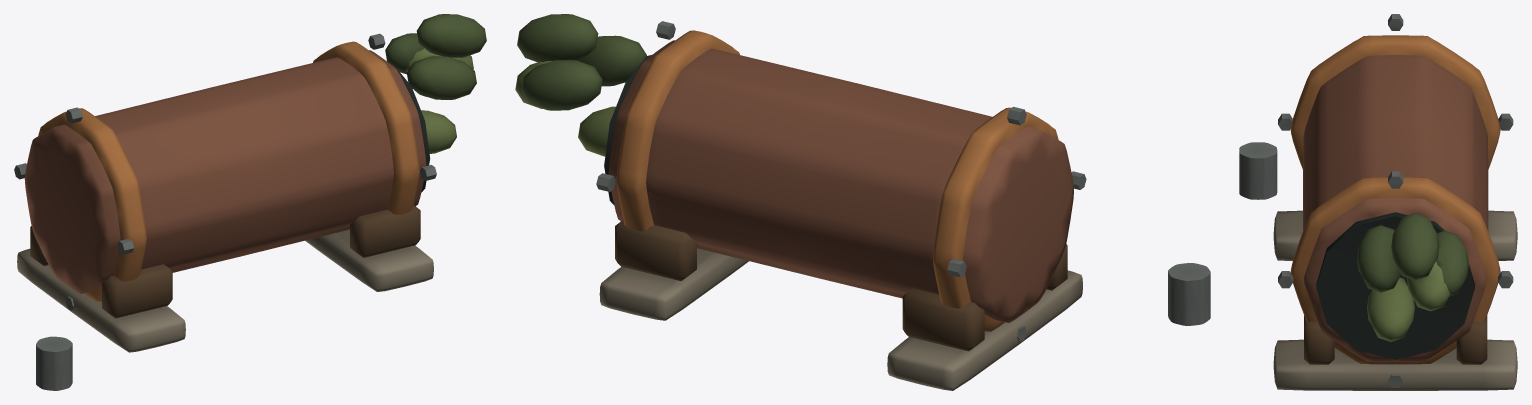
The model's file is pipe_section_b.glb.
3 views of the same model, side by side, from view 1: azimuth 30°, elevation 25°; view 2: azimuth 150°, elevation 25°; view 3: azimuth 270°, elevation 25° (orthographic). The views are drawn at different scales.
Visible parts, largest first — view 1: Surface; view 2: Surface; view 3: Surface.
Part boxes in pixels (x1,y1,x2,y2): Surface: (14,14,486,390); Surface: (515,14,1210,390); Surface: (1239,14,1517,390).
Bounding box in the file's own units: 4.19 × 1.58 × 1.82.
